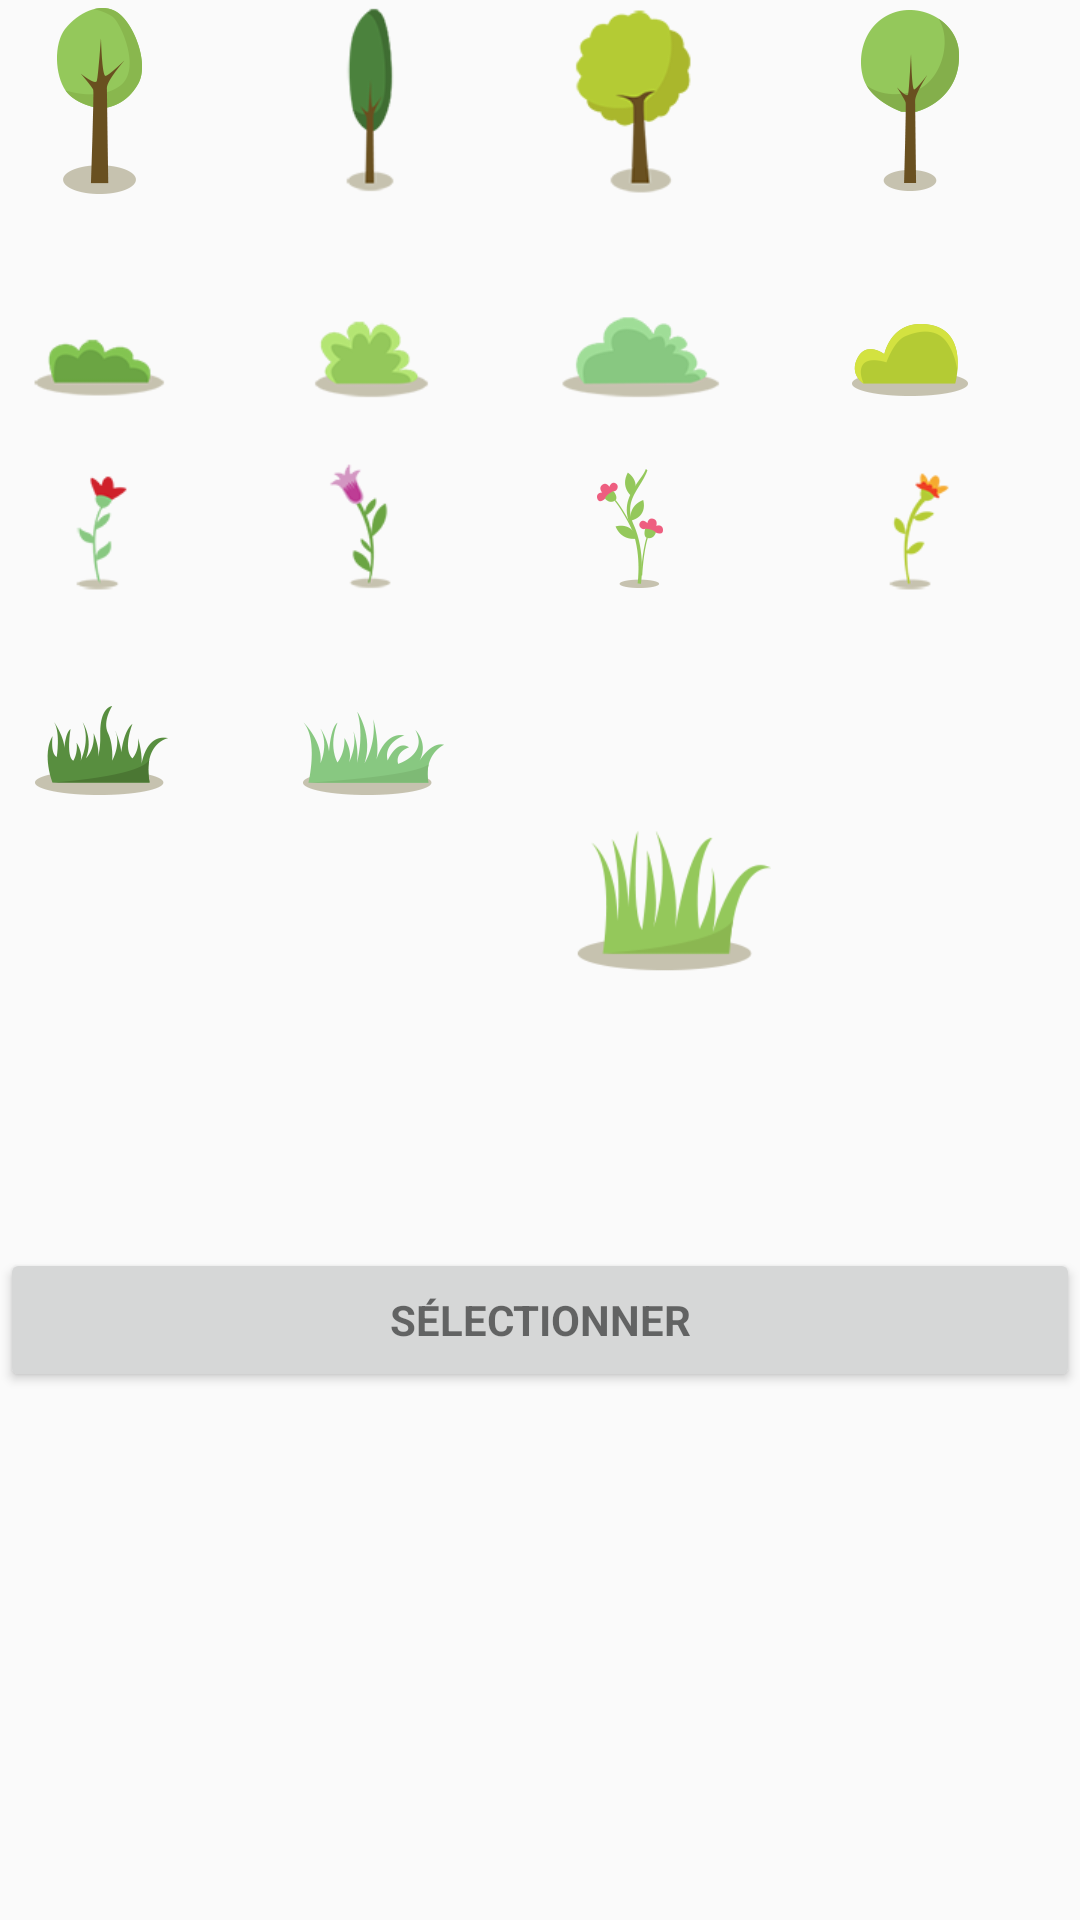

Icon click points for this 1080 x 1920 phone screenshot, format (x,y):
bush: (640,357), (371,359), (910,360), (99,367)
flower: (360,526), (630,528), (919,531), (102,533)
grass: (101,750), (373,753), (674,901)
tree: (99,101), (370,99), (633,101), (910,100)
